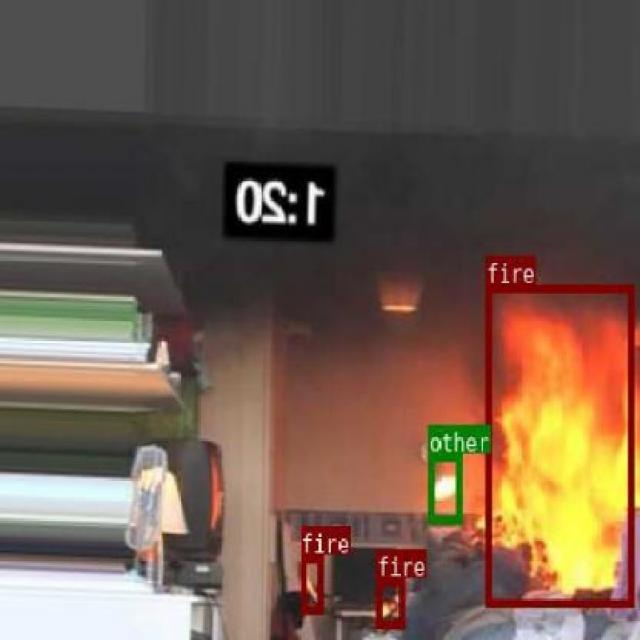Fire: (484, 283, 632, 605), (375, 577, 403, 626), (300, 554, 322, 612)
